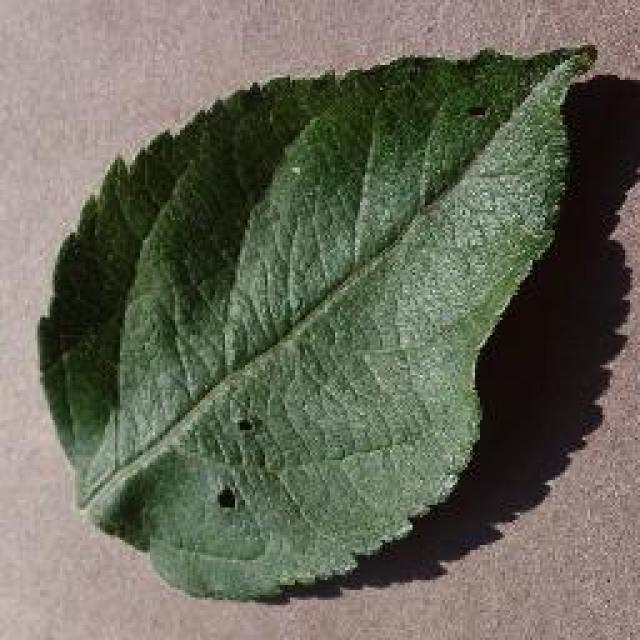apple healthy: (35, 40, 597, 602)
